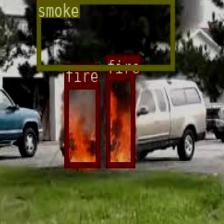fire: (64, 83, 99, 167), (106, 74, 134, 167)
smoke: (36, 0, 174, 69)
